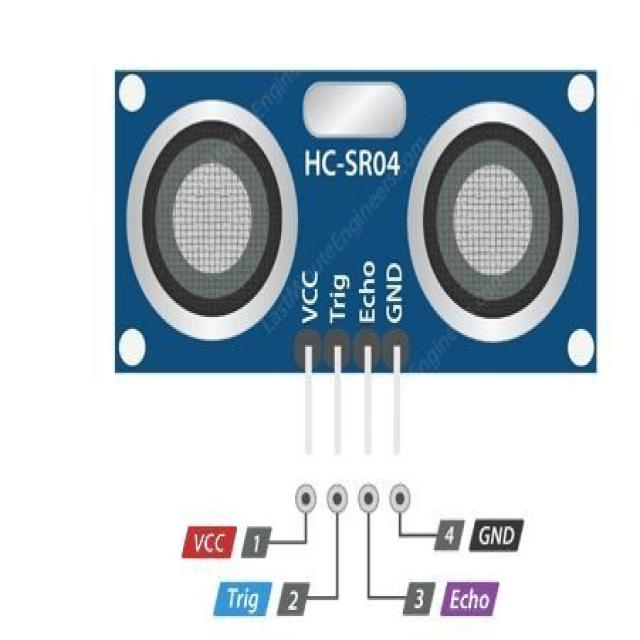Ultrasonic Sensor: (112, 58, 606, 476)
